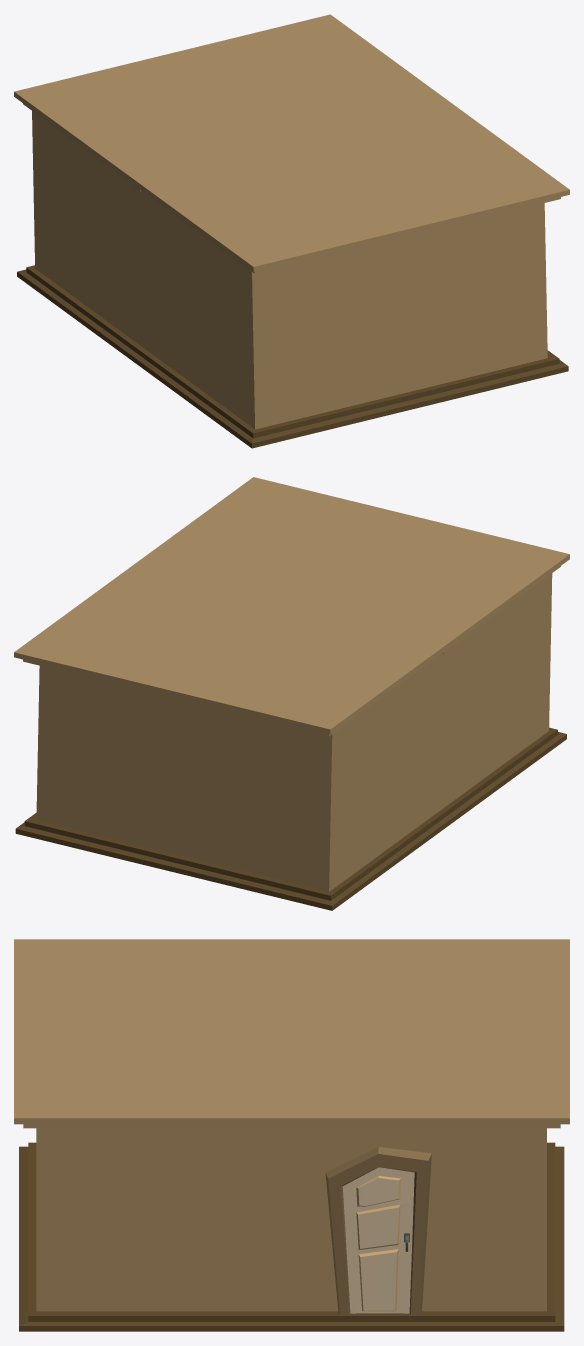
The model's file is FinishedRoom.fbx.
The picture shows the model from 3 angles, top to bottom: view 1: azimuth 30°, elevation 25°; view 2: azimuth 150°, elevation 25°; view 3: azimuth 270°, elevation 25°; orthographic projection. The views are drawn at different scales.
Parts seen in each view (by area): view 1: Walls, polySurface49, polySurface45, Baseboard; view 2: Walls, polySurface45, polySurface49, Baseboard; view 3: Walls, polySurface45, polySurface49, Baseboard, OutsideDoor4.
Boxes of the visible parts, x1=… form: Walls: x1=32, y1=111, x2=547, y2=429; polySurface49: x1=133, y1=102, x2=569, y2=273; polySurface45: x1=14, y1=14, x2=449, y2=190; Baseboard: x1=17, y1=265, x2=568, y2=448; Walls: x1=36, y1=573, x2=552, y2=891; polySurface45: x1=14, y1=564, x2=449, y2=736; polySurface49: x1=134, y1=477, x2=569, y2=652; Baseboard: x1=15, y1=727, x2=566, y2=910; Walls: x1=36, y1=1128, x2=546, y2=1311; polySurface45: x1=291, y1=939, x2=569, y2=1129; polySurface49: x1=14, y1=939, x2=292, y2=1129; Baseboard: x1=19, y1=1142, x2=564, y2=1331; OutsideDoor4: x1=325, y1=1147, x2=431, y2=1314.
Size of the model in its own units: 150 by 82.98 by 196.
1 material, 1 textured.
